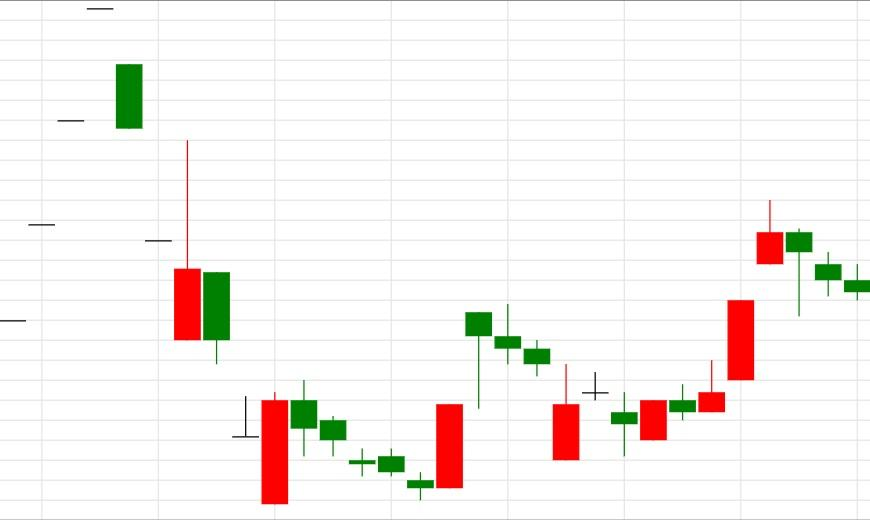hanging_man_fall: (639, 199, 813, 441), (407, 313, 493, 502)
